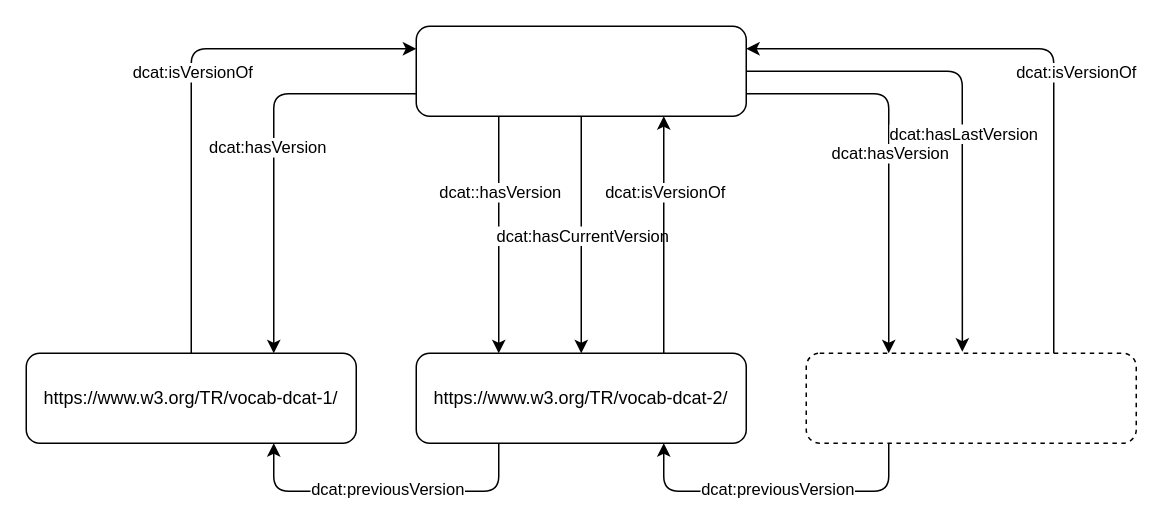
This 1163x530 diagram has some shape labels left out. Each missing label, with the centre of its shape:
https://www.w3.org/TR/vocab-dcat-3/: [970,397]
https://www.w3.org/TR/vocab-dcat/: [580,70]
